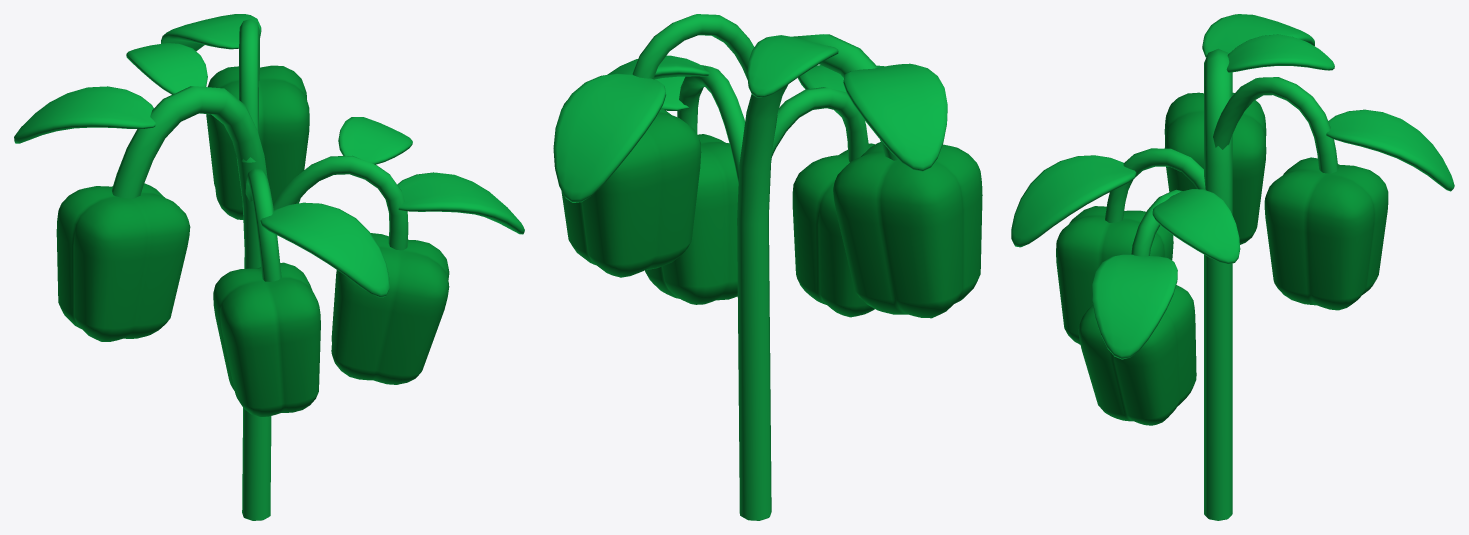
The model's file is Farm_19_Pepper_Bush_3.glb.
3 renders of one model, left to right at view 1: azimuth 30°, elevation 25°; view 2: azimuth 150°, elevation 25°; view 3: azimuth 270°, elevation 25°, orthographic. The views are drawn at different scales.
Parts seen in each view (by area): view 1: Farm_19_Pepper_Bush_3; view 2: Farm_19_Pepper_Bush_3; view 3: Farm_19_Pepper_Bush_3.
Boxes of the visible parts, left/top/right/bottom form: Farm_19_Pepper_Bush_3: left=14, top=14, right=524, bottom=520; Farm_19_Pepper_Bush_3: left=553, top=14, right=982, bottom=520; Farm_19_Pepper_Bush_3: left=1011, top=14, right=1454, bottom=520.
Bounding box in the file's own units: 1.1 × 1.17 × 1.04.
1 material, 1 textured.
